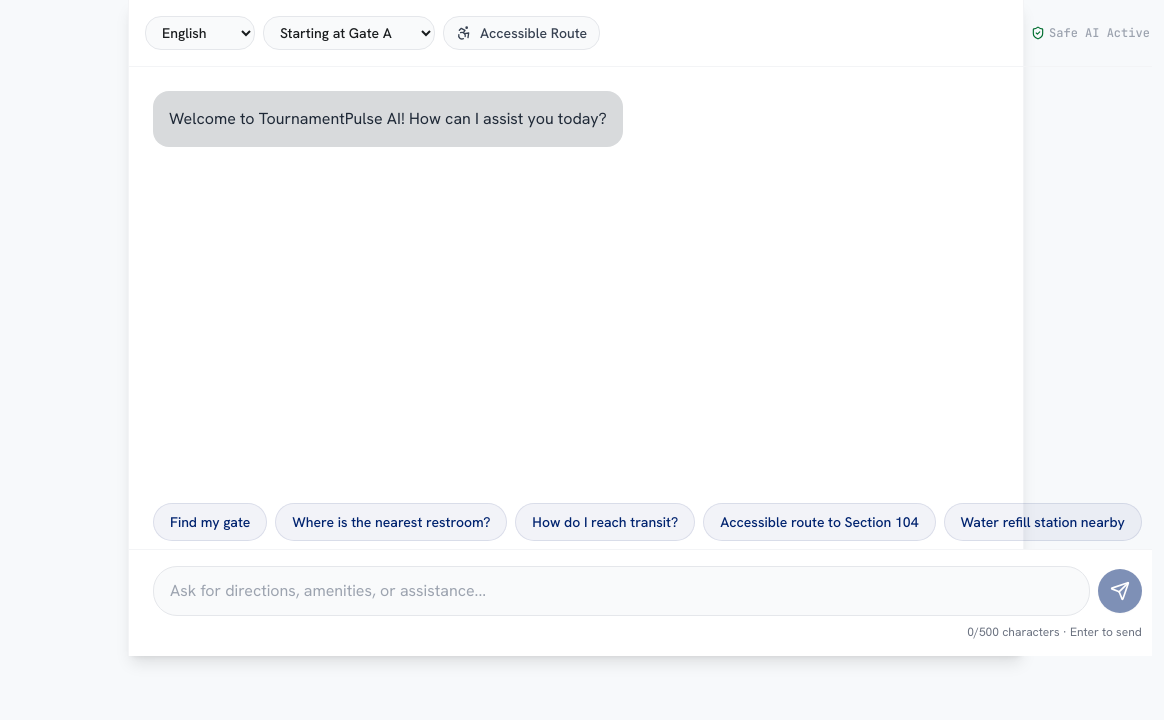
Test: FanAssistant - Accessibility › should expose the user message as a labeled article
Type "Need water" into the field named "type your message".
click(621, 591); type("Need water")  # box x1=153 y1=566 x2=1090 y2=616
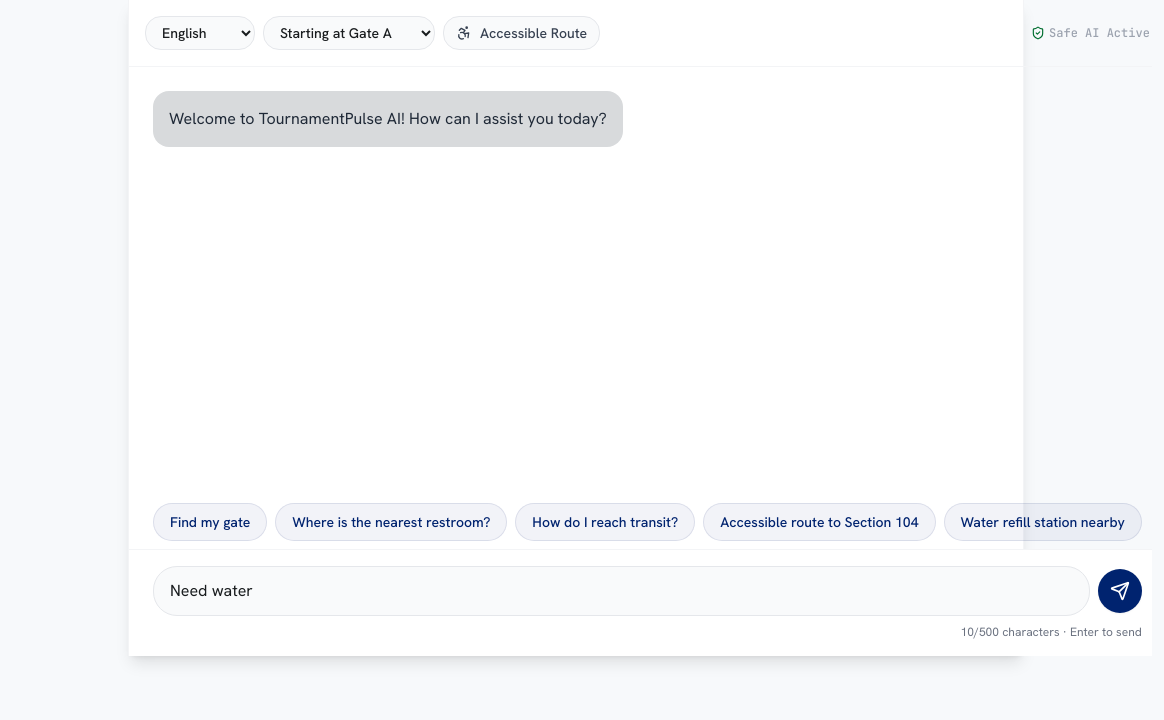
Click the button named "Send message".
click(1120, 591)  # box x1=1098 y1=569 x2=1142 y2=613
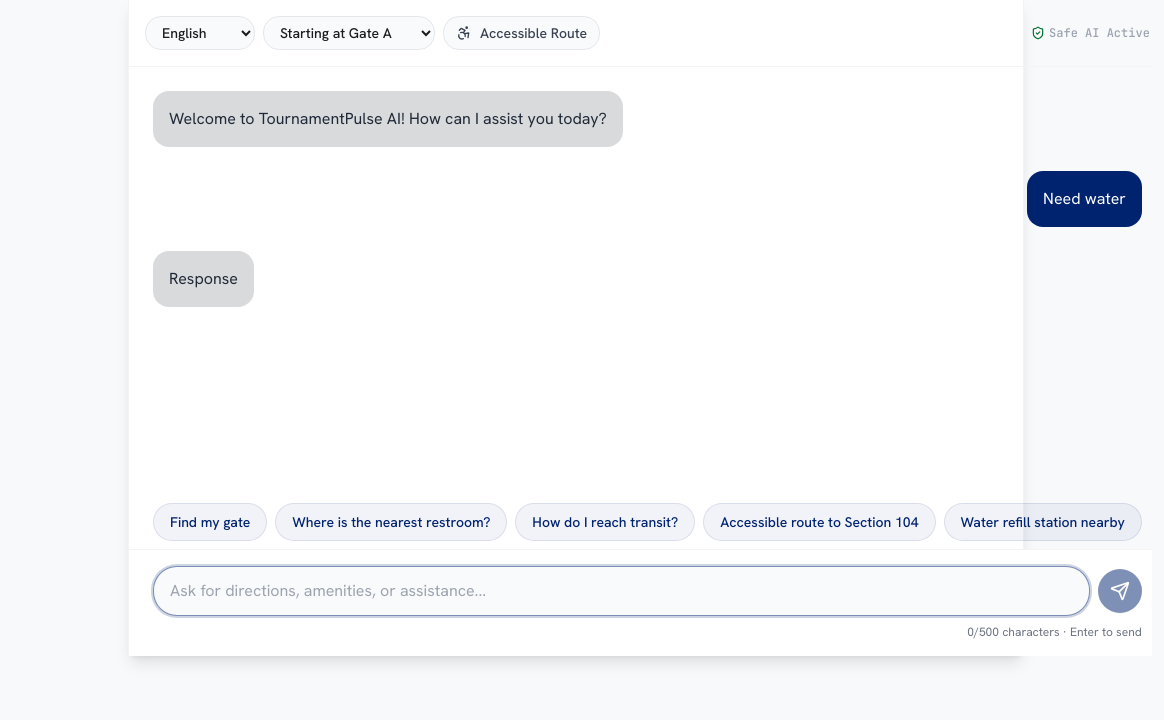
Check: the element named "Your message" reads "Need water", box x1=1043 y1=188 x2=1126 y2=209
